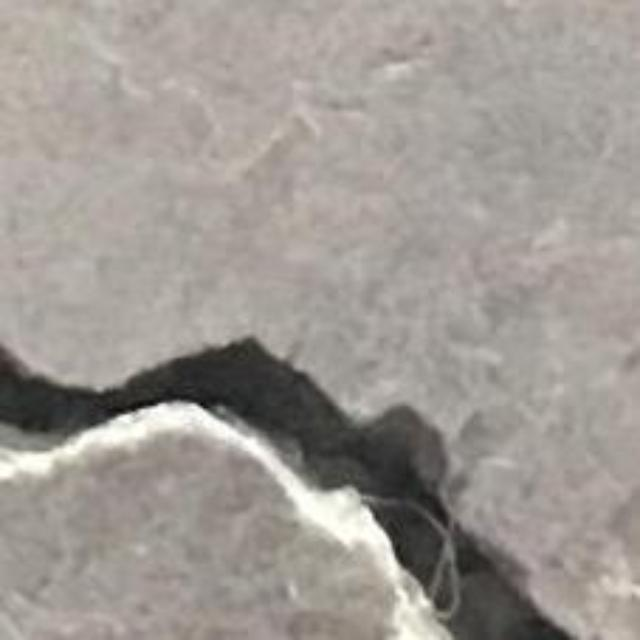crack: (0, 339, 569, 639)
